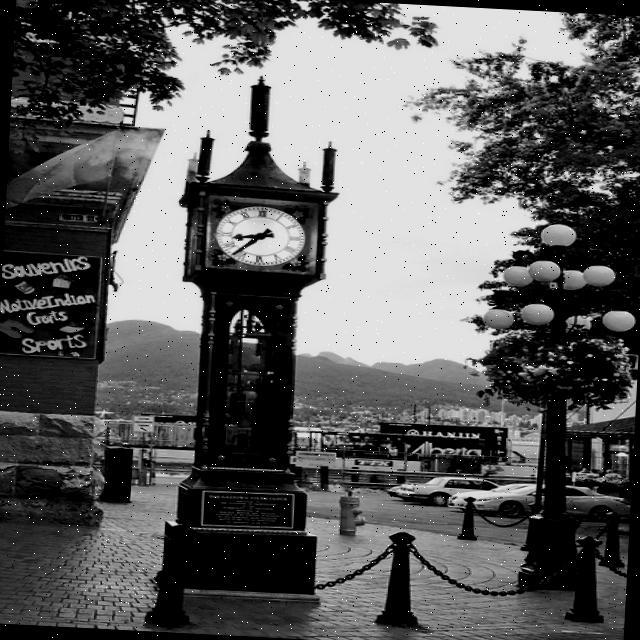fire_hydrant: (337, 490, 368, 538)
